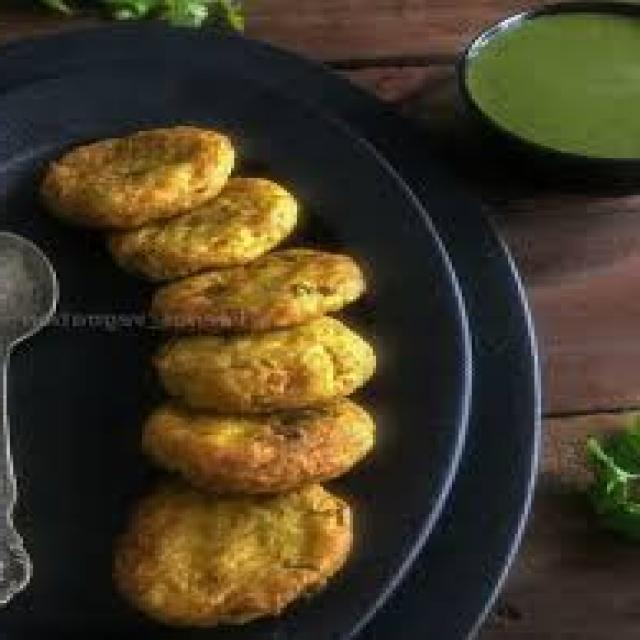Aloo Tikki: (115, 481, 348, 626), (141, 389, 377, 498), (157, 309, 375, 417), (46, 127, 235, 229), (110, 170, 294, 274), (146, 250, 367, 334)
